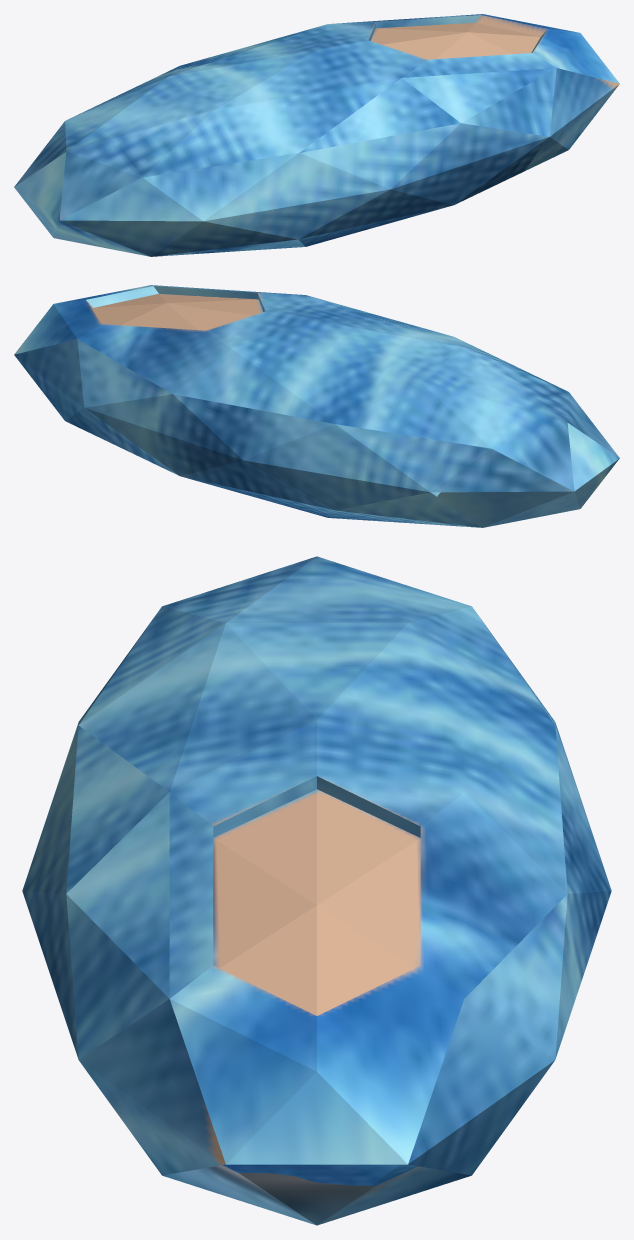
The model's file is Baby.fbx.
The picture shows the model from 3 angles, top to bottom: view 1: azimuth 30°, elevation 25°; view 2: azimuth 150°, elevation 25°; view 3: azimuth 270°, elevation 25°; orthographic projection. The views are drawn at different scales.
Visible parts, largest first — view 1: Icosphere; view 2: Icosphere; view 3: Icosphere.
Boxes of the visible parts, left/top/right/bottom form: Icosphere: left=14, top=14, right=619, bottom=256; Icosphere: left=14, top=285, right=619, bottom=527; Icosphere: left=22, top=556, right=611, bottom=1225.
Size of the model in its own units: 306 by 89.27 by 139.
